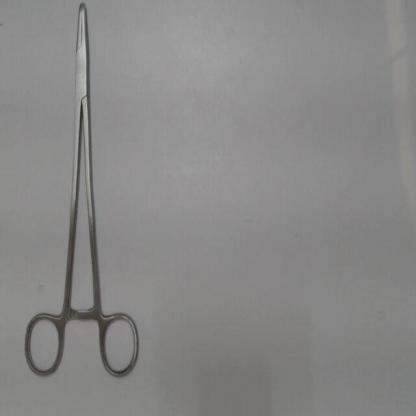8 Mayo Needle Holder: (17, 0, 148, 384)
